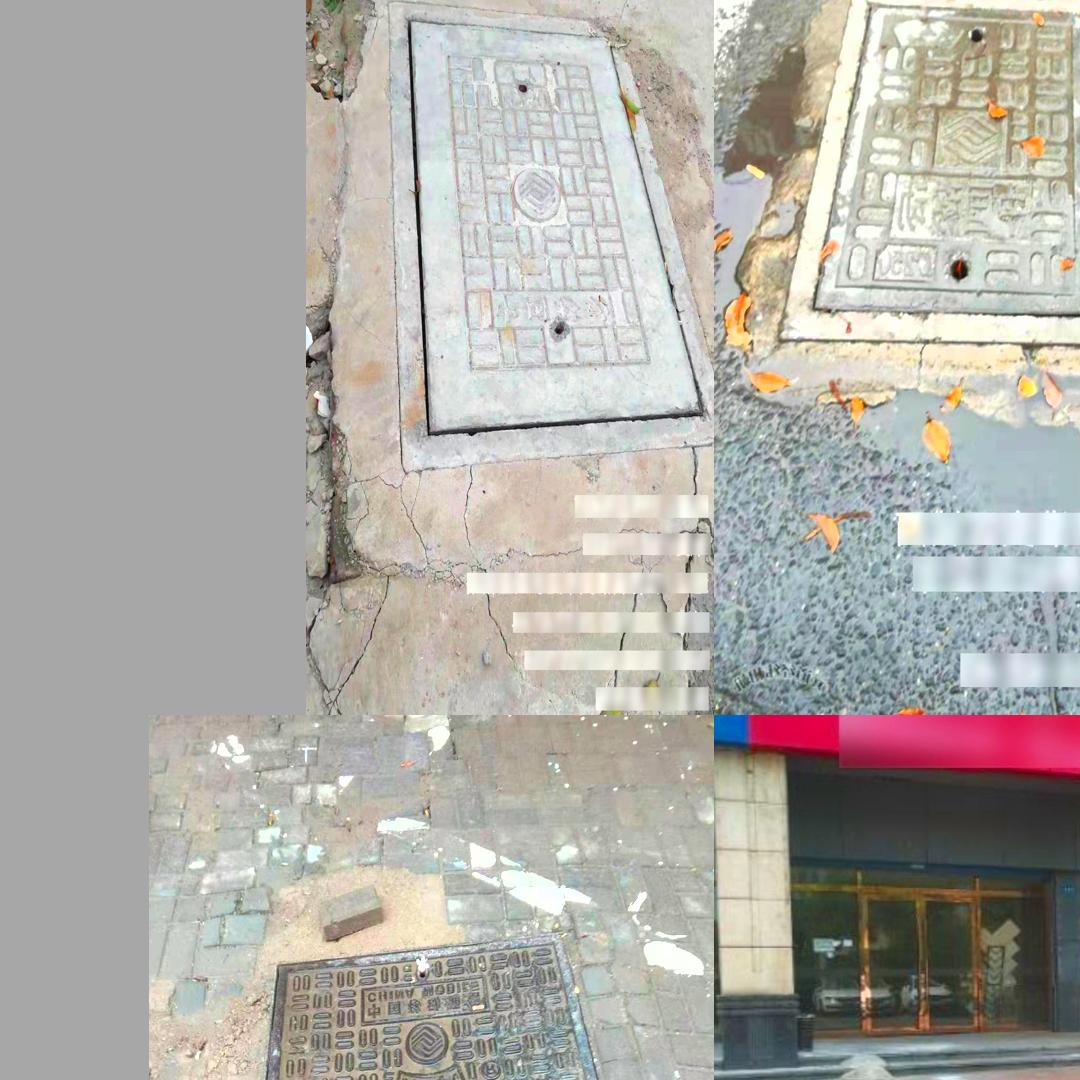good: (389, 0, 713, 470), (778, 0, 1080, 347), (264, 926, 581, 1080)
